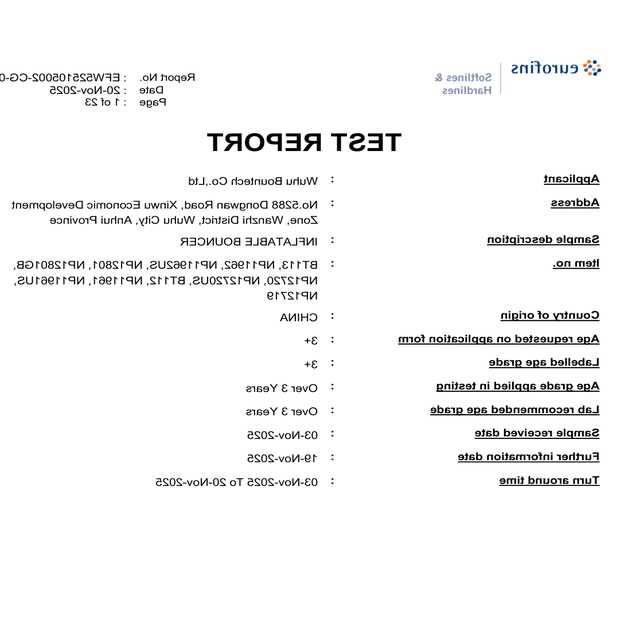eurofins: (507, 54, 616, 87)
